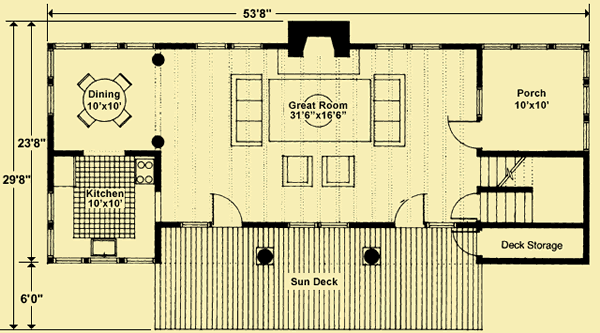hall has a round dining table: (50, 42, 164, 154)
kitchen has a cooking couter with cooking range and sink: (48, 153, 161, 266)
livingroom has multiple large couches and small couches: (223, 46, 415, 191)
